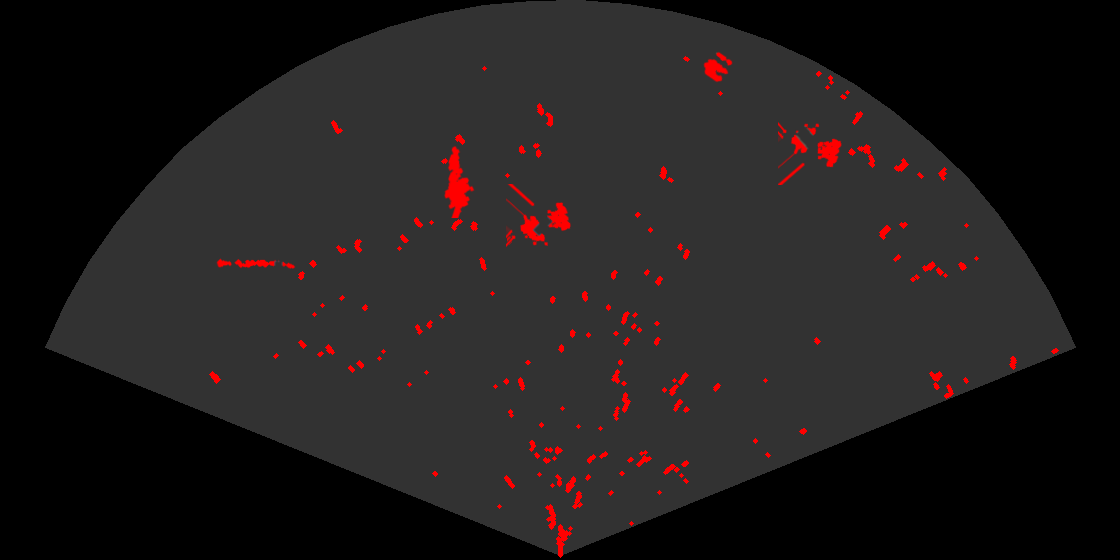ball: (702, 50, 734, 84)
cage: (506, 184, 572, 249), (778, 120, 843, 185)
chain: (216, 257, 296, 270)
frogman: (443, 144, 476, 218)
